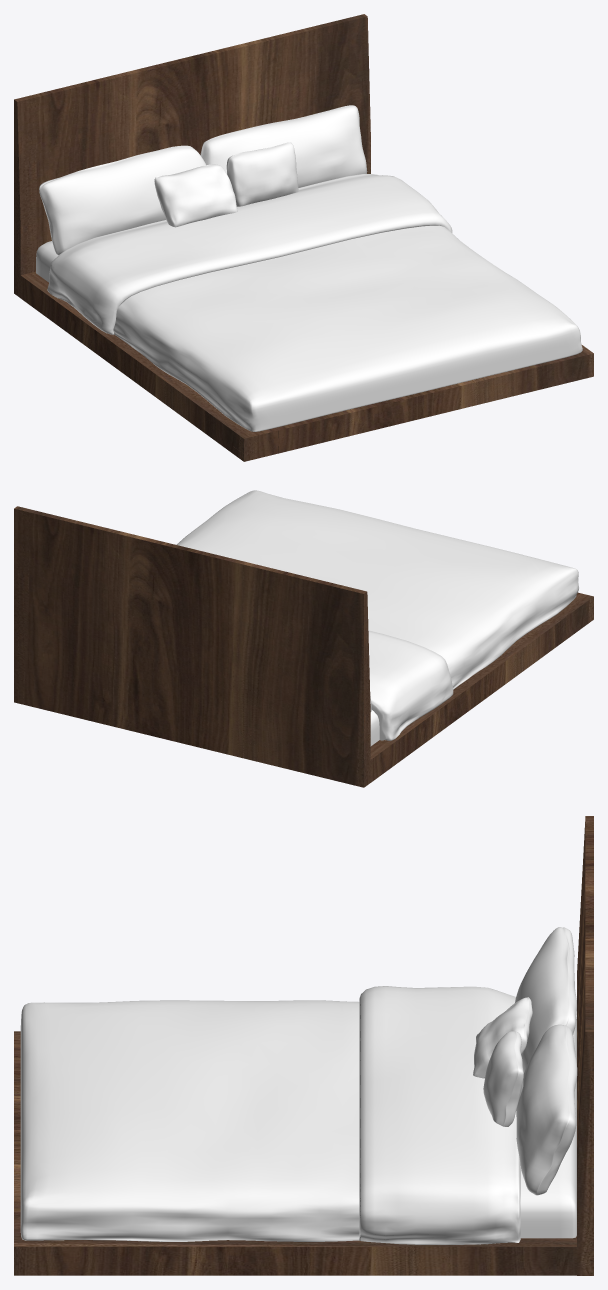
File: grayModel.gltf
The picture shows the model from 3 angles, top to bottom: view 1: azimuth 30°, elevation 25°; view 2: azimuth 150°, elevation 25°; view 3: azimuth 270°, elevation 25°; orthographic projection. The views are drawn at different scales.
Parts seen in each view (by area): view 1: Box11712, Box11710, Box11707, Box11709, Box11705, Box11708, Box11703, Box11702, Box11704, Box11711, Box11706; view 2: Box11710, Box11712, Box11705; view 3: Box11712, Box11704, Box11708, Box11710, Box11707, Box11706, Box11702, Box11703, Box11709.
Boxes of the visible parts, x1=… form: Box11712: x1=47, y1=174, x2=582, y2=431; Box11710: x1=14, y1=14, x2=370, y2=297; Box11707: x1=39, y1=145, x2=205, y2=255; Box11709: x1=232, y1=360, x2=593, y2=453; Box11705: x1=20, y1=273, x2=277, y2=461; Box11708: x1=200, y1=105, x2=367, y2=187; Box11703: x1=154, y1=164, x2=237, y2=227; Box11702: x1=226, y1=142, x2=298, y2=206; Box11704: x1=557, y1=345, x2=593, y2=384; Box11711: x1=30, y1=271, x2=581, y2=434; Box11706: x1=36, y1=241, x2=58, y2=282; Box11710: x1=14, y1=506, x2=370, y2=787; Box11712: x1=176, y1=490, x2=578, y2=740; Box11705: x1=370, y1=592, x2=593, y2=782; Box11712: x1=20, y1=986, x2=520, y2=1244; Box11704: x1=14, y1=1225, x2=576, y2=1275; Box11708: x1=516, y1=1024, x2=577, y2=1195; Box11710: x1=577, y1=816, x2=593, y2=1275; Box11707: x1=515, y1=927, x2=576, y2=1073; Box11706: x1=520, y1=1017, x2=576, y2=1238; Box11702: x1=483, y1=1031, x2=523, y2=1126; Box11703: x1=473, y1=997, x2=532, y2=1078; Box11709: x1=14, y1=1052, x2=43, y2=1265.
Size of the model in its own units: 1.88 by 0.9895 by 2.13.
Materials: 2 (1 with a texture image).
